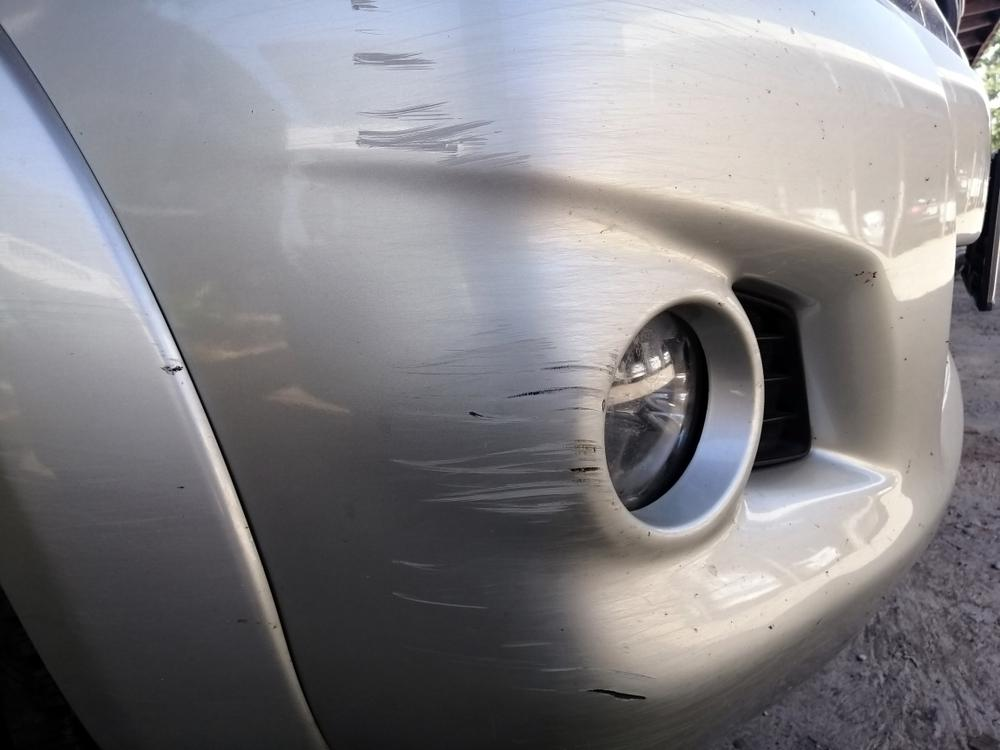scratch: (347, 0, 734, 720)
